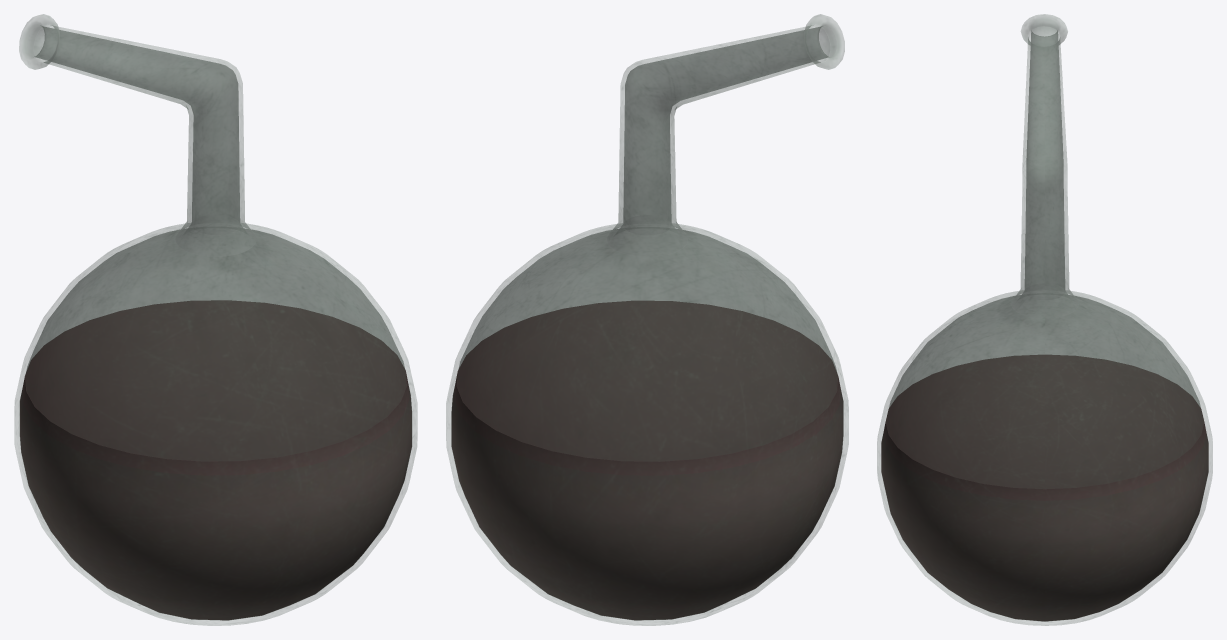
Rendered from Flask_01.glb.
3 renders of one model, left to right at view 1: azimuth 30°, elevation 25°; view 2: azimuth 150°, elevation 25°; view 3: azimuth 270°, elevation 25°, orthographic. The views are drawn at different scales.
Visible parts, largest first — view 1: SM_Flask_01.001; view 2: SM_Flask_01.001; view 3: SM_Flask_01.001.
Boxes of the visible parts, x1,y1,x2,y2 form: SM_Flask_01.001: (14,14,417,625); SM_Flask_01.001: (446,14,848,625); SM_Flask_01.001: (877,14,1212,625).
Bounding box in the file's own units: 0.4553 × 0.7432 × 0.4351.
2 materials, 2 textured.
